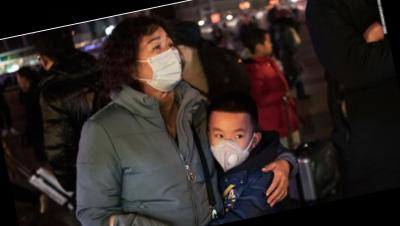with_mask: (133, 29, 188, 97), (207, 118, 257, 173)
without_mask: (260, 35, 276, 58)
